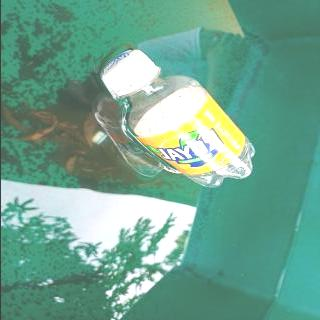bottle: (97, 48, 257, 188)
